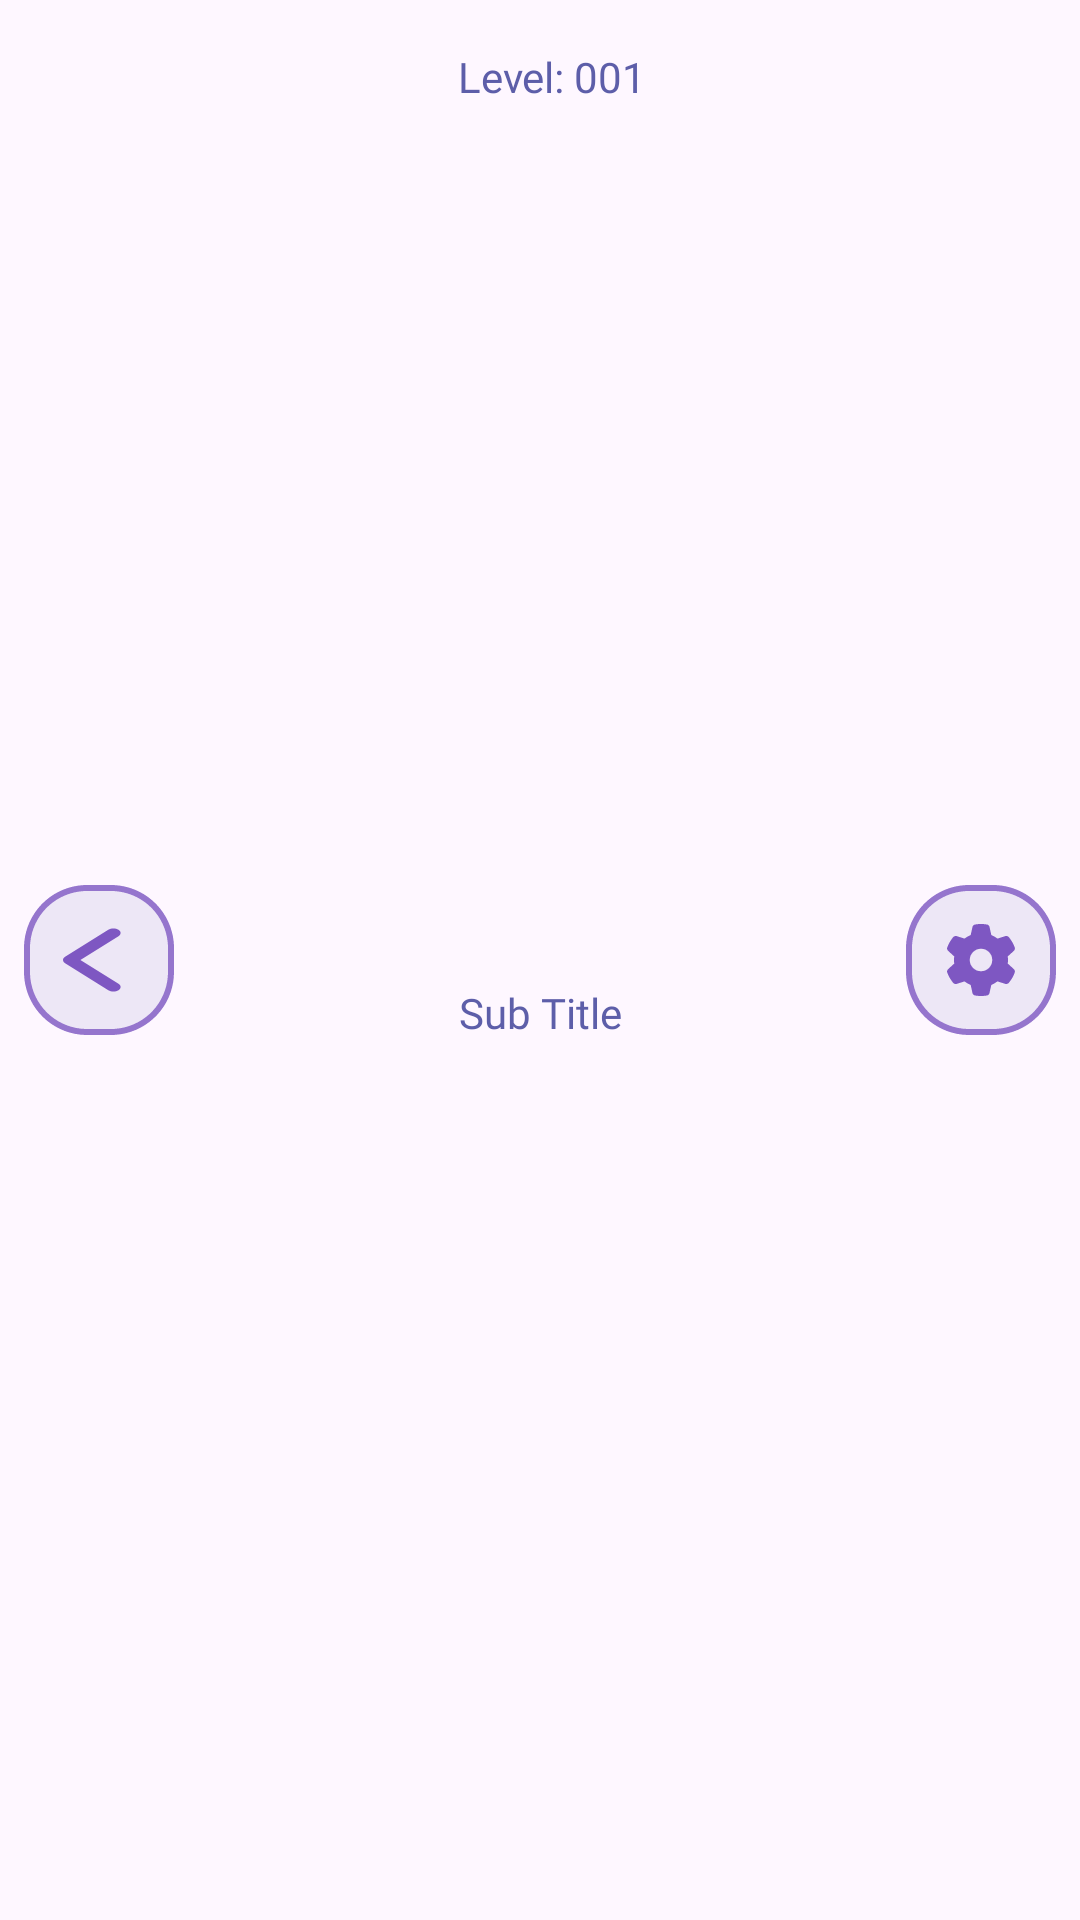

Where to tap for icons on this 1080px×1920px app screen, as point (x, y):
back left: point (99, 960)
gear: point (981, 960)
